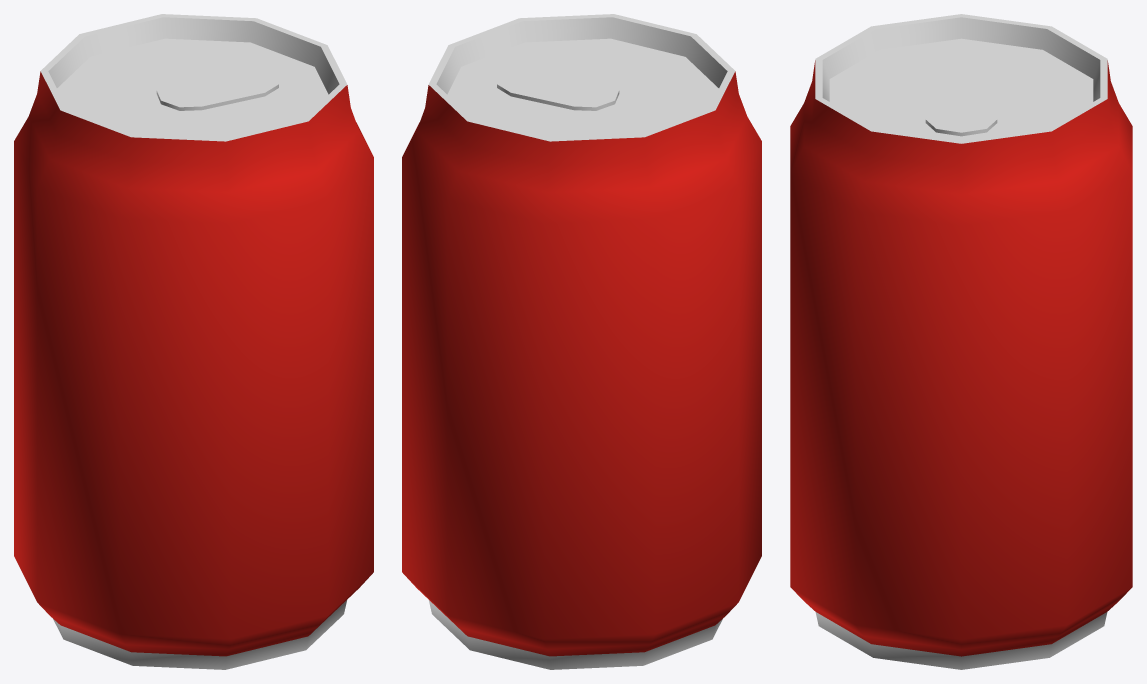
File: M_cola_can.fbx
The picture shows the model from 3 angles, left to right: view 1: azimuth 30°, elevation 25°; view 2: azimuth 150°, elevation 25°; view 3: azimuth 270°, elevation 25°; orthographic projection.
Parts seen in each view (by area): view 1: M_cola_can; view 2: M_cola_can; view 3: M_cola_can.
Part boxes in pixels (x1,y1,x2,y2): M_cola_can: [14, 14, 373, 669]; M_cola_can: [402, 14, 761, 669]; M_cola_can: [790, 14, 1132, 669].
Size of the model in its own units: 0.073 by 0.1179 by 0.0694.
